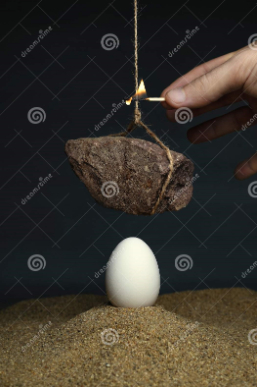egg: (100, 231, 164, 315)
stone: (55, 120, 205, 223)
